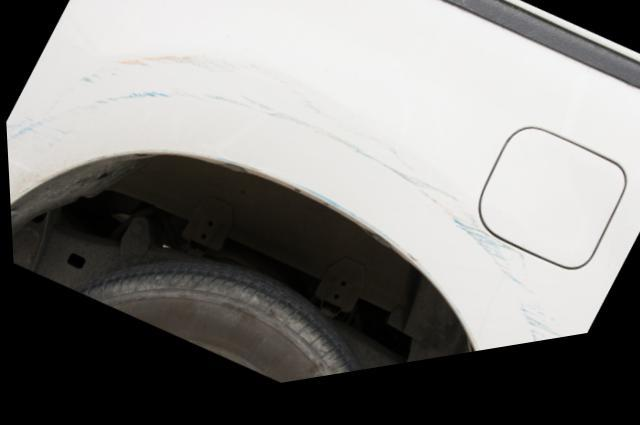scratch: (5, 60, 570, 361)
